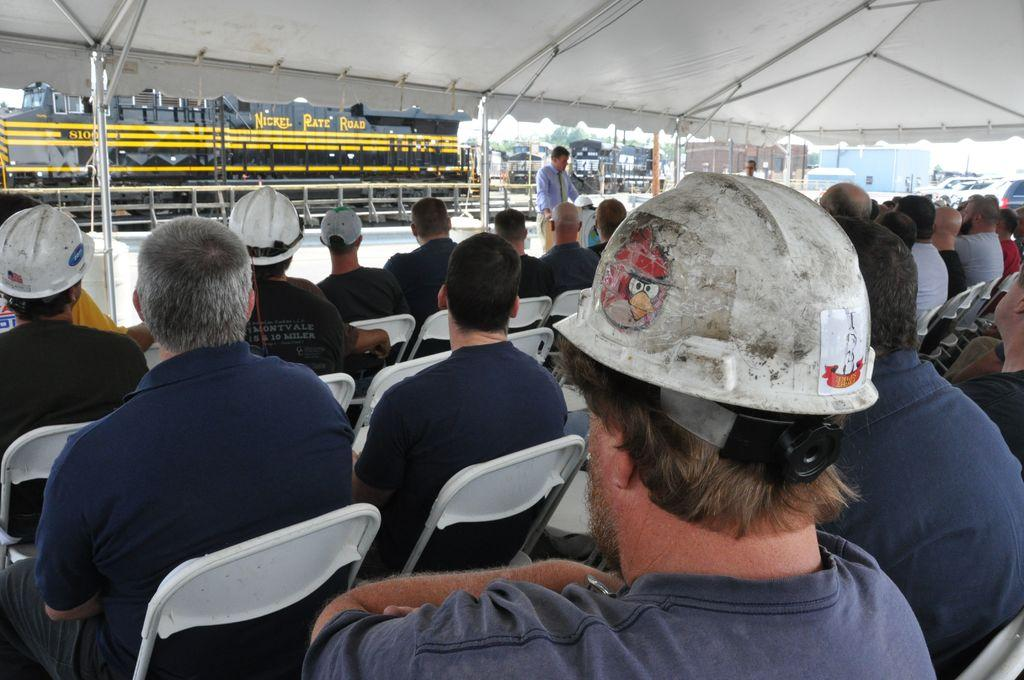helmet: (552, 171, 880, 549), (0, 204, 95, 321), (226, 186, 305, 280), (573, 195, 594, 215)
nohelmet: (131, 214, 257, 363), (436, 231, 522, 343), (318, 205, 364, 263), (891, 194, 937, 245), (409, 196, 452, 248), (959, 193, 1000, 237), (923, 206, 963, 249), (493, 207, 528, 254), (594, 198, 628, 245), (548, 201, 583, 244), (988, 208, 1018, 240), (550, 145, 571, 173)
